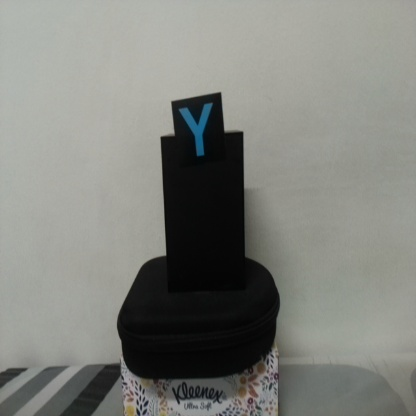id_14: (172, 100, 224, 168)
